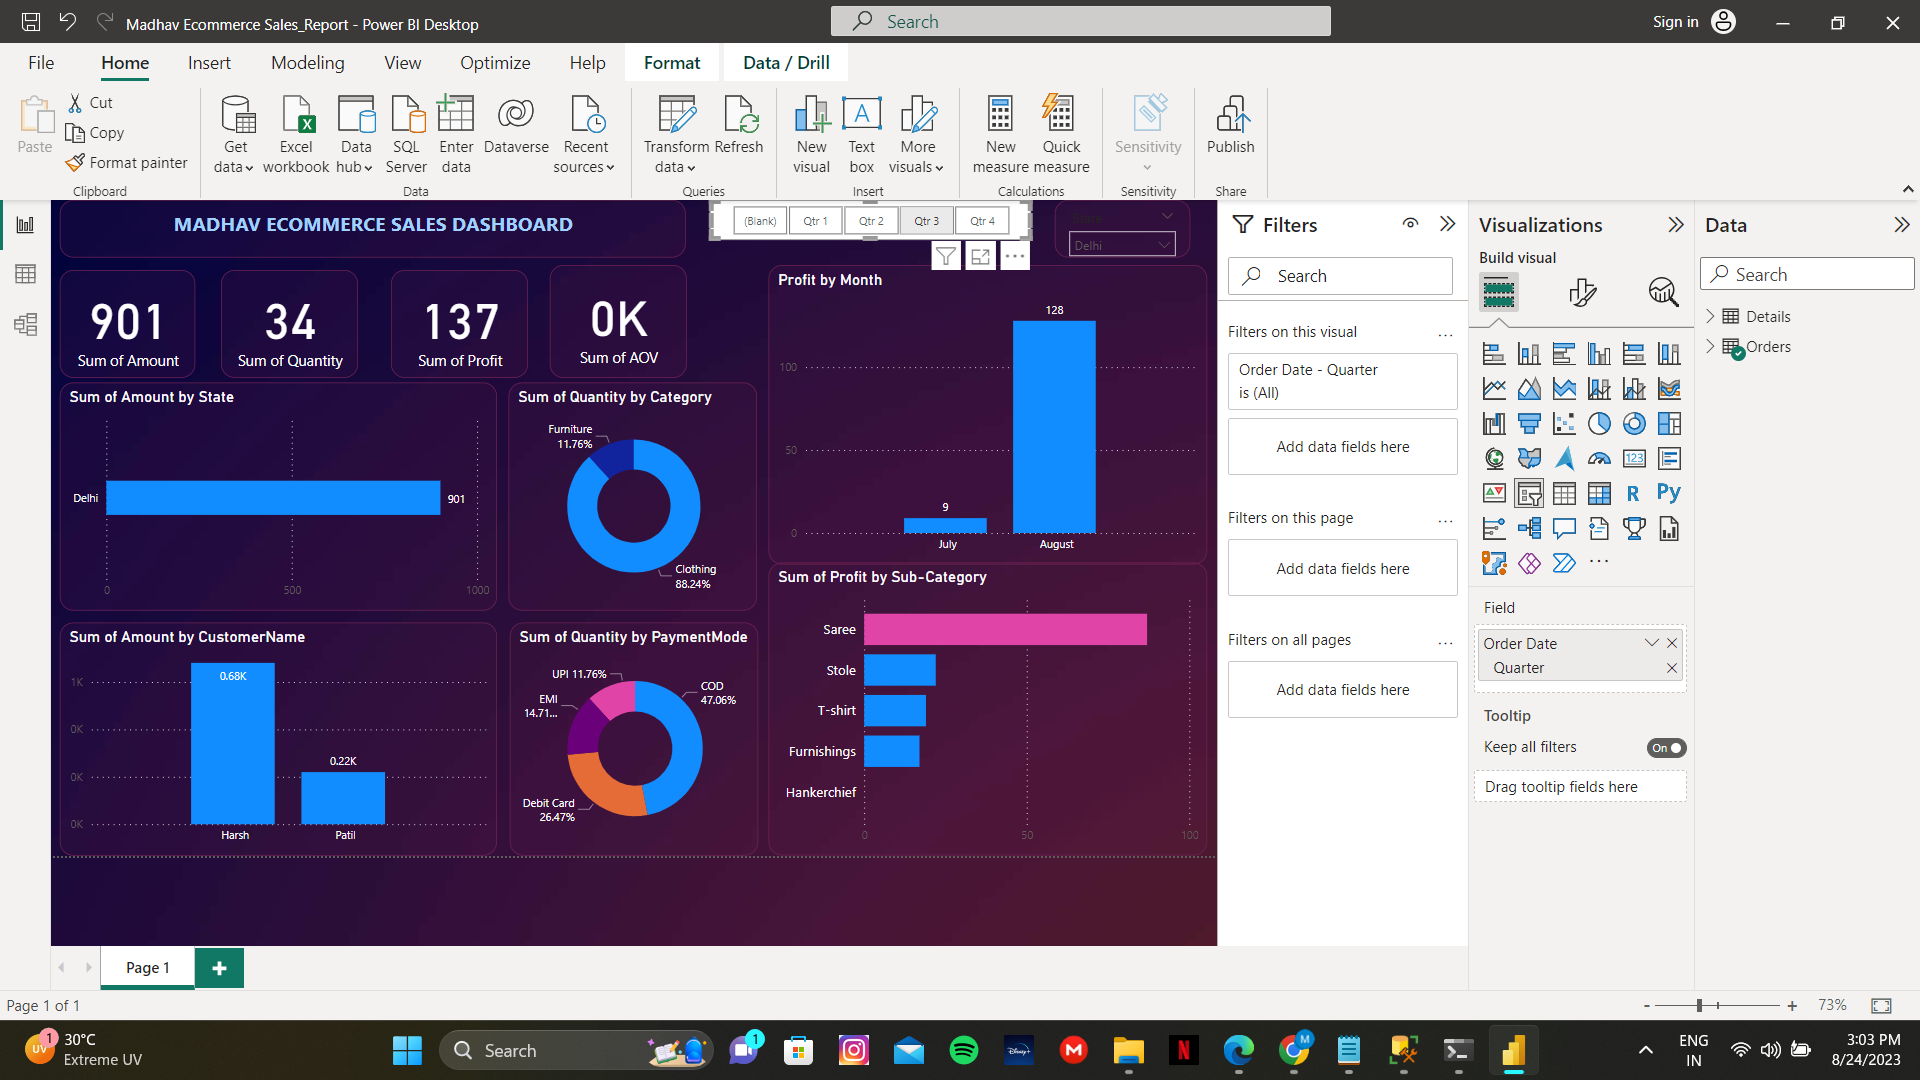

Layout of this report page (visuals, bound fields, positions):
{"tool":"powerbi","page":{"name":"Page 1","canvas":[1280,720],"ordinal":0},"visuals":[{"type":"textbox","box":[10,0,687.1,62.9],"z":0},{"type":"columnChart","title":"Profit by Month","fields":{"Y":["Sum(Details.Profit)"],"Category":["Orders.Order Date.Variation.Date Hierarchy.Month"]},"box":[787.1,71.4,481.4,328.6],"z":1000},{"type":"barChart","fields":{"Category":["Details.Sub-Category"],"Y":["Sum(Details.Profit)"]},"box":[787.1,398.6,481.4,321.4],"z":2000},{"type":"donutChart","fields":{"Category":["Details.Category"],"Y":["Sum(Details.Quantity)"]},"box":[502.9,200,272.9,250],"z":3000},{"type":"donutChart","fields":{"Y":["Sum(Details.Quantity)"],"Category":["Details.PaymentMode"]},"box":[504.3,464.3,272.9,255.7],"z":4000},{"type":"card","fields":{"Values":["Sum(Details.Amount)"]},"box":[10,77.1,148.6,118.6],"z":5000},{"type":"card","fields":{"Values":["Sum(Details.Quantity)"]},"box":[187.1,77.1,150,118.6],"z":6000},{"type":"card","fields":{"Values":["Sum(Details.Profit)"]},"box":[372.9,77.1,150,118.6],"z":7000},{"type":"card","fields":{"Values":["Sum(Details.AOV)"]},"box":[547.1,71.4,150,124.3],"z":8000},{"type":"barChart","fields":{"Category":["Orders.State"],"Y":["Sum(Details.Amount)"]},"box":[10,200,480,250],"z":9000},{"type":"columnChart","fields":{"Category":["Orders.CustomerName"],"Y":["Sum(Details.Amount)"]},"box":[10,464.3,480,255.7],"z":10000},{"type":"slicer","fields":{"Values":["Orders.Order Date.Variation.Date Hierarchy.Quarter"]},"box":[722.9,0,352.9,44.3],"z":11000},{"type":"slicer","fields":{"Values":["Orders.State"]},"box":[1101.4,0,148.6,62.9],"z":11001}]}

Visuals, with their boxes on the page's 1280x720 design canvas (x1, y1, x2, y2). These are canvas units, not pixel positions in the 1920x1080 screenshot, which may show the page scaled, cropped or inside an application window:
textbox: <box>10,0,697,63</box>
"Profit by Month" columnChart: <box>787,71,1268,400</box>
barChart - Details.Sub-Category x Sum(Details.Profit): <box>787,399,1268,720</box>
donutChart - Details.Category x Sum(Details.Quantity): <box>503,200,776,450</box>
donutChart - Sum(Details.Quantity) x Details.PaymentMode: <box>504,464,777,720</box>
card - Sum(Details.Amount): <box>10,77,159,196</box>
card - Sum(Details.Quantity): <box>187,77,337,196</box>
card - Sum(Details.Profit): <box>373,77,523,196</box>
card - Sum(Details.AOV): <box>547,71,697,196</box>
barChart - Orders.State x Sum(Details.Amount): <box>10,200,490,450</box>
columnChart - Orders.CustomerName x Sum(Details.Amount): <box>10,464,490,720</box>
slicer - Orders.Order Date.Variation.Date Hierarchy.Quarter: <box>723,0,1076,44</box>
slicer - Orders.State: <box>1101,0,1250,63</box>
